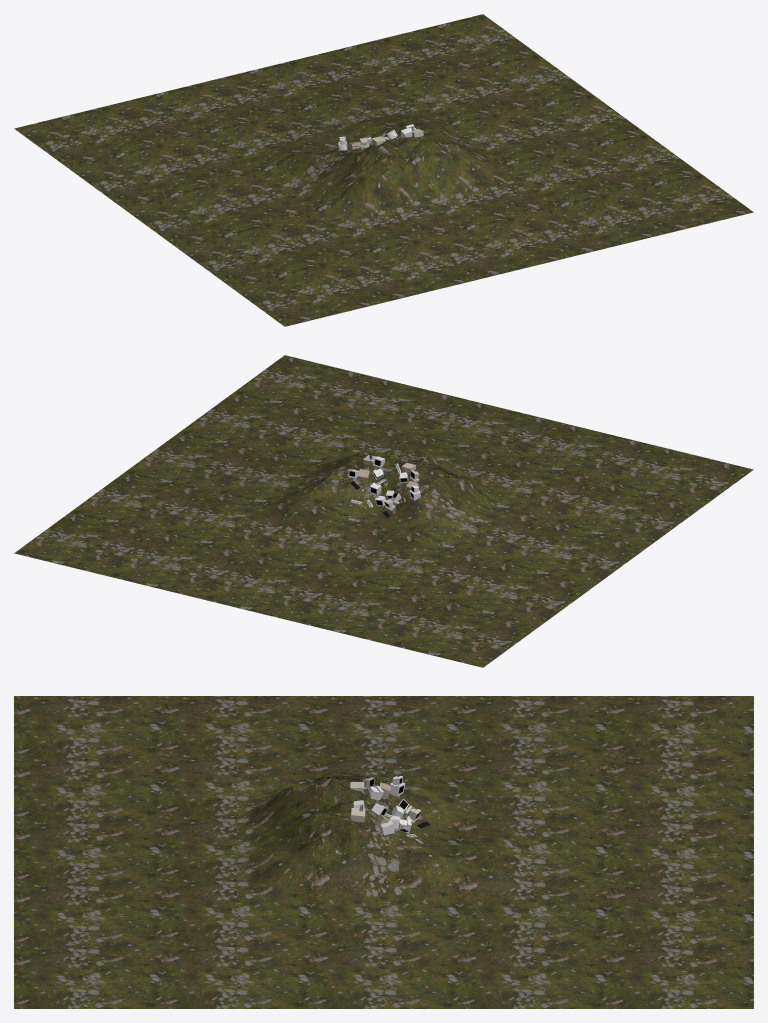
The picture shows the model from 3 angles, top to bottom: view 1: azimuth 30°, elevation 25°; view 2: azimuth 150°, elevation 25°; view 3: azimuth 270°, elevation 25°; orthographic projection. The views are drawn at different scales.
Parts seen in each view (by area): view 1: Landscape.001; view 2: Landscape.001; view 3: Landscape.001, BézierCurve.001.
Part boxes in pixels (x1,y1,x2,y2): Landscape.001: (14,14,753,326); Landscape.001: (14,355,753,667); Landscape.001: (14,696,753,1008); BézierCurve.001: (313,772,408,832).
Size of the model in its own units: 125 by 11.43 by 125.
Materials: 11 (4 with a texture image).
